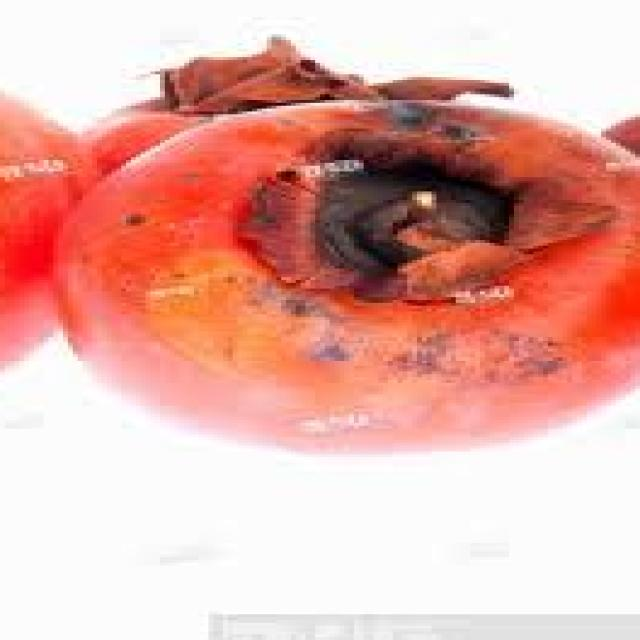inorganic: (56, 21, 635, 476)
